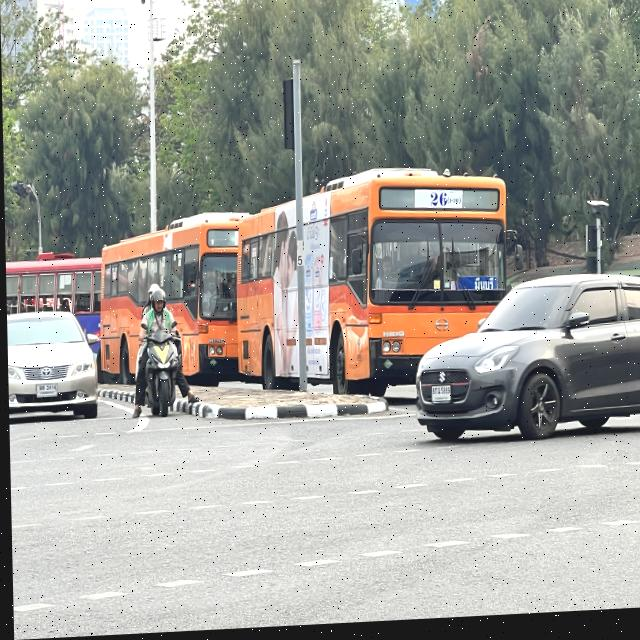BMTA-bus: (232, 160, 510, 409), (98, 208, 258, 395)
Bus Line Number: (413, 190, 463, 216)
Destination Sign: (457, 280, 498, 297)
